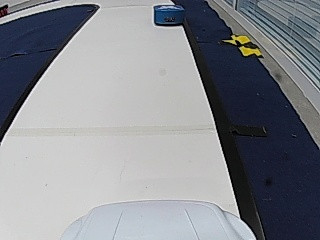prop: (154, 5, 185, 27)
